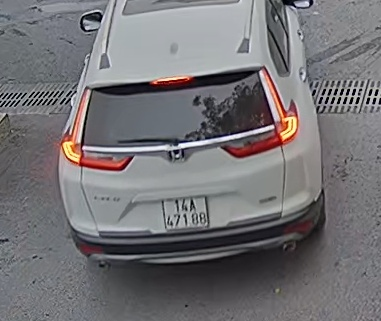vehicle plate: (152, 195, 216, 230)
